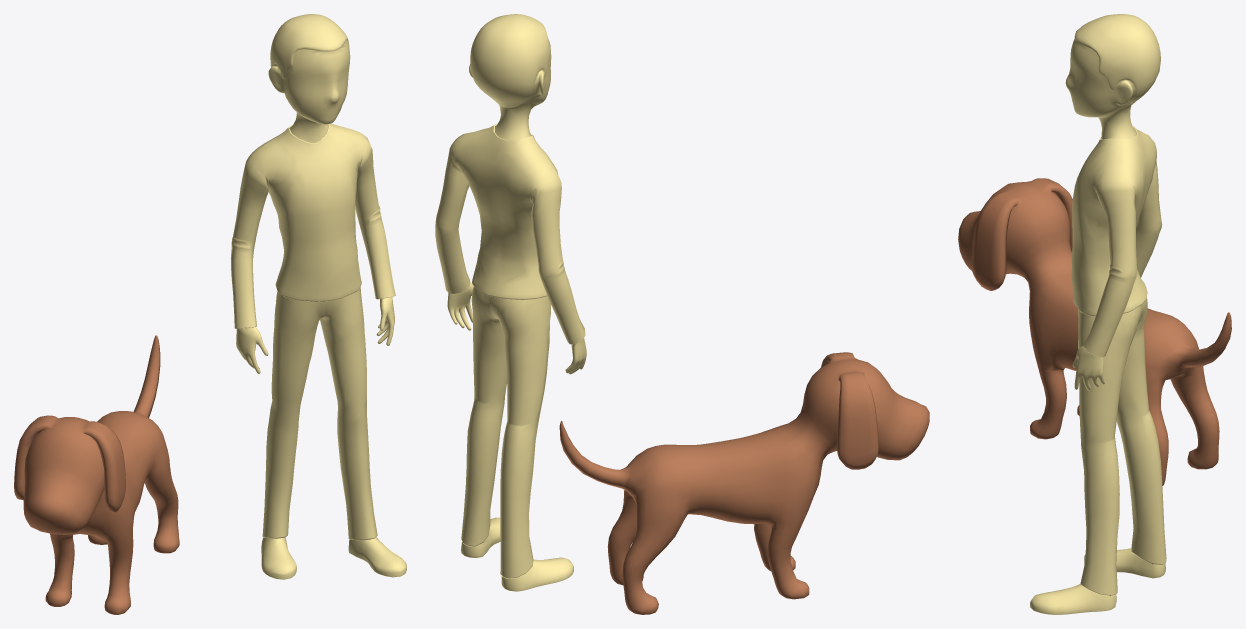
The model's file is HumanandDog.glb.
The picture shows the model from 3 angles, left to right: view 1: azimuth 30°, elevation 25°; view 2: azimuth 150°, elevation 25°; view 3: azimuth 270°, elevation 25°; orthographic projection. The views are drawn at different scales.
Visible parts, largest first — view 1: mesh_id32, mesh_id27; view 2: mesh_id32, mesh_id27; view 3: mesh_id32, mesh_id27.
Boxes of the visible parts, x1=… form: mesh_id32: x1=230, y1=14, x2=406, y2=579; mesh_id27: x1=14, y1=335, x2=179, y2=614; mesh_id32: x1=435, y1=14, x2=586, y2=591; mesh_id27: x1=559, y1=352, x2=929, y2=614; mesh_id32: x1=1030, y1=14, x2=1166, y2=614; mesh_id27: x1=958, y1=178, x2=1231, y2=485.
Bounding box in the file's own units: 0.4204 × 0.52 × 0.2284.
2 materials, 2 textured.
